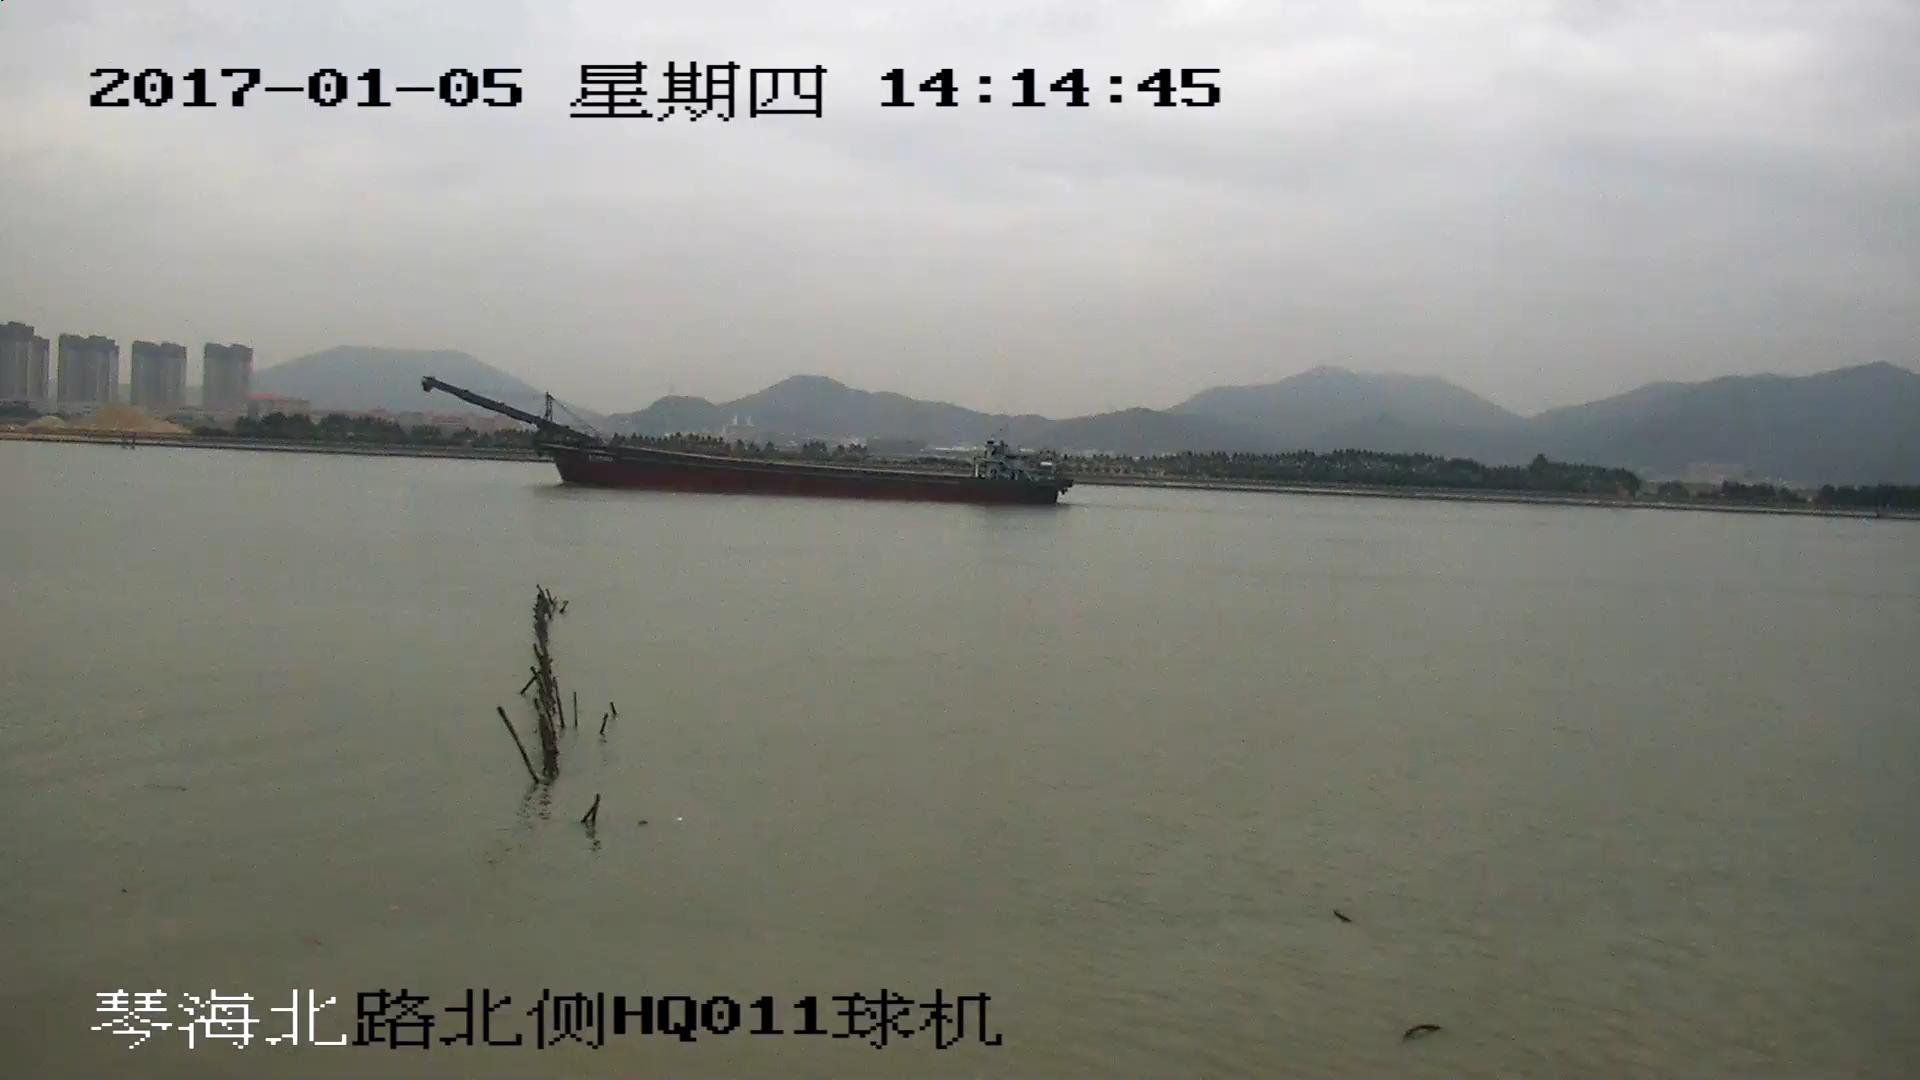Ship: (419, 386, 1067, 506)
